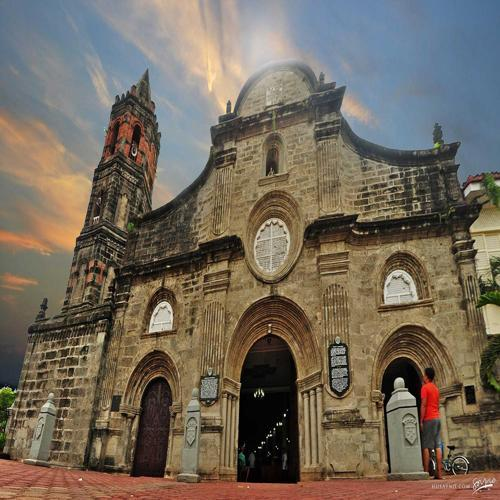Barasoain Church: (15, 53, 480, 485)
